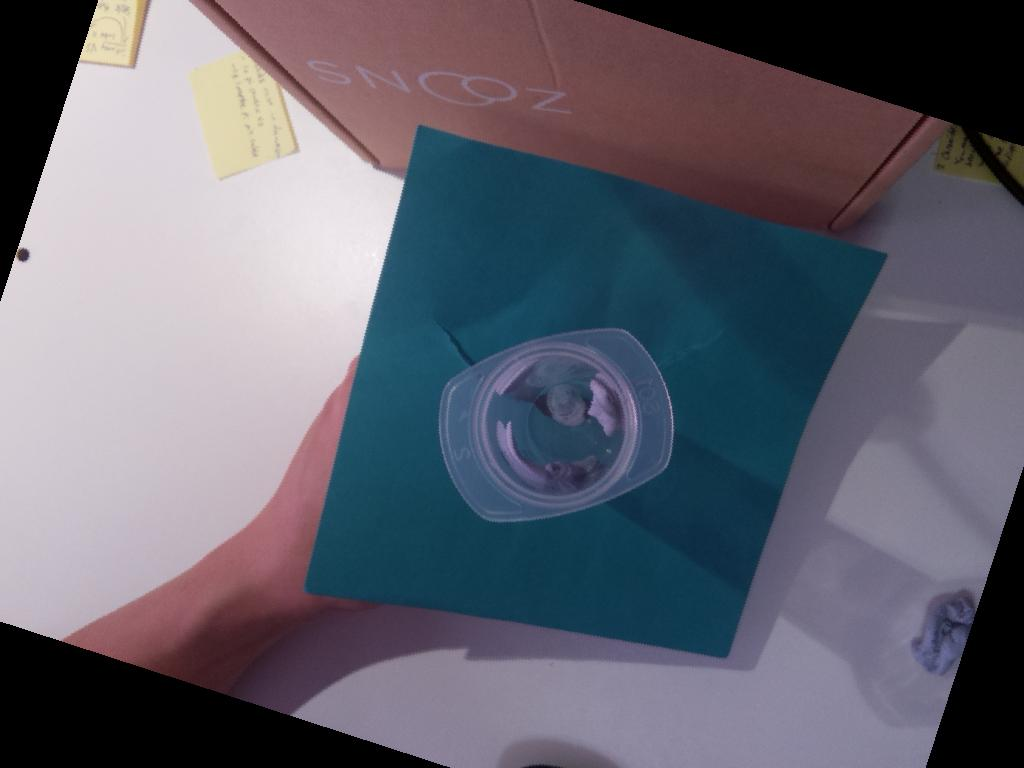dirty: (438, 325, 675, 522)
